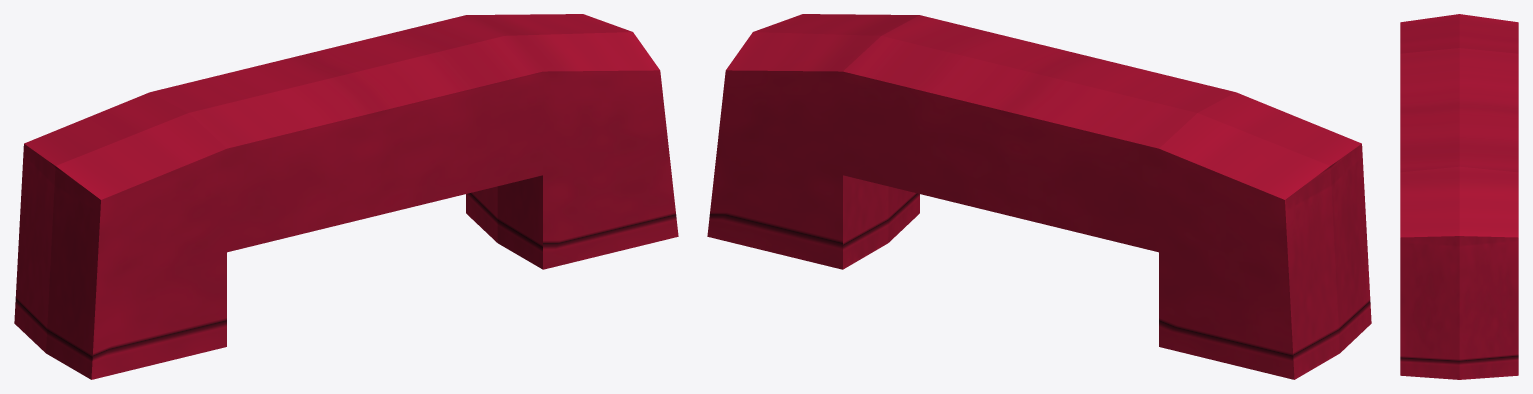
The model's file is prop_receiver.glb.
3 views of the same model, side by side, from view 1: azimuth 30°, elevation 25°; view 2: azimuth 150°, elevation 25°; view 3: azimuth 270°, elevation 25° (orthographic). The views are drawn at different scales.
Parts seen in each view (by area): view 1: phone_reciever; view 2: phone_reciever; view 3: phone_reciever.
Part boxes in pixels (x1=…): phone_reciever: x1=14, y1=14, x2=678, y2=379; phone_reciever: x1=707, y1=14, x2=1371, y2=379; phone_reciever: x1=1400, y1=14, x2=1518, y2=379.
Size of the model in its own units: 1.63 by 0.5306 by 0.3605.
2 materials, 2 textured.
